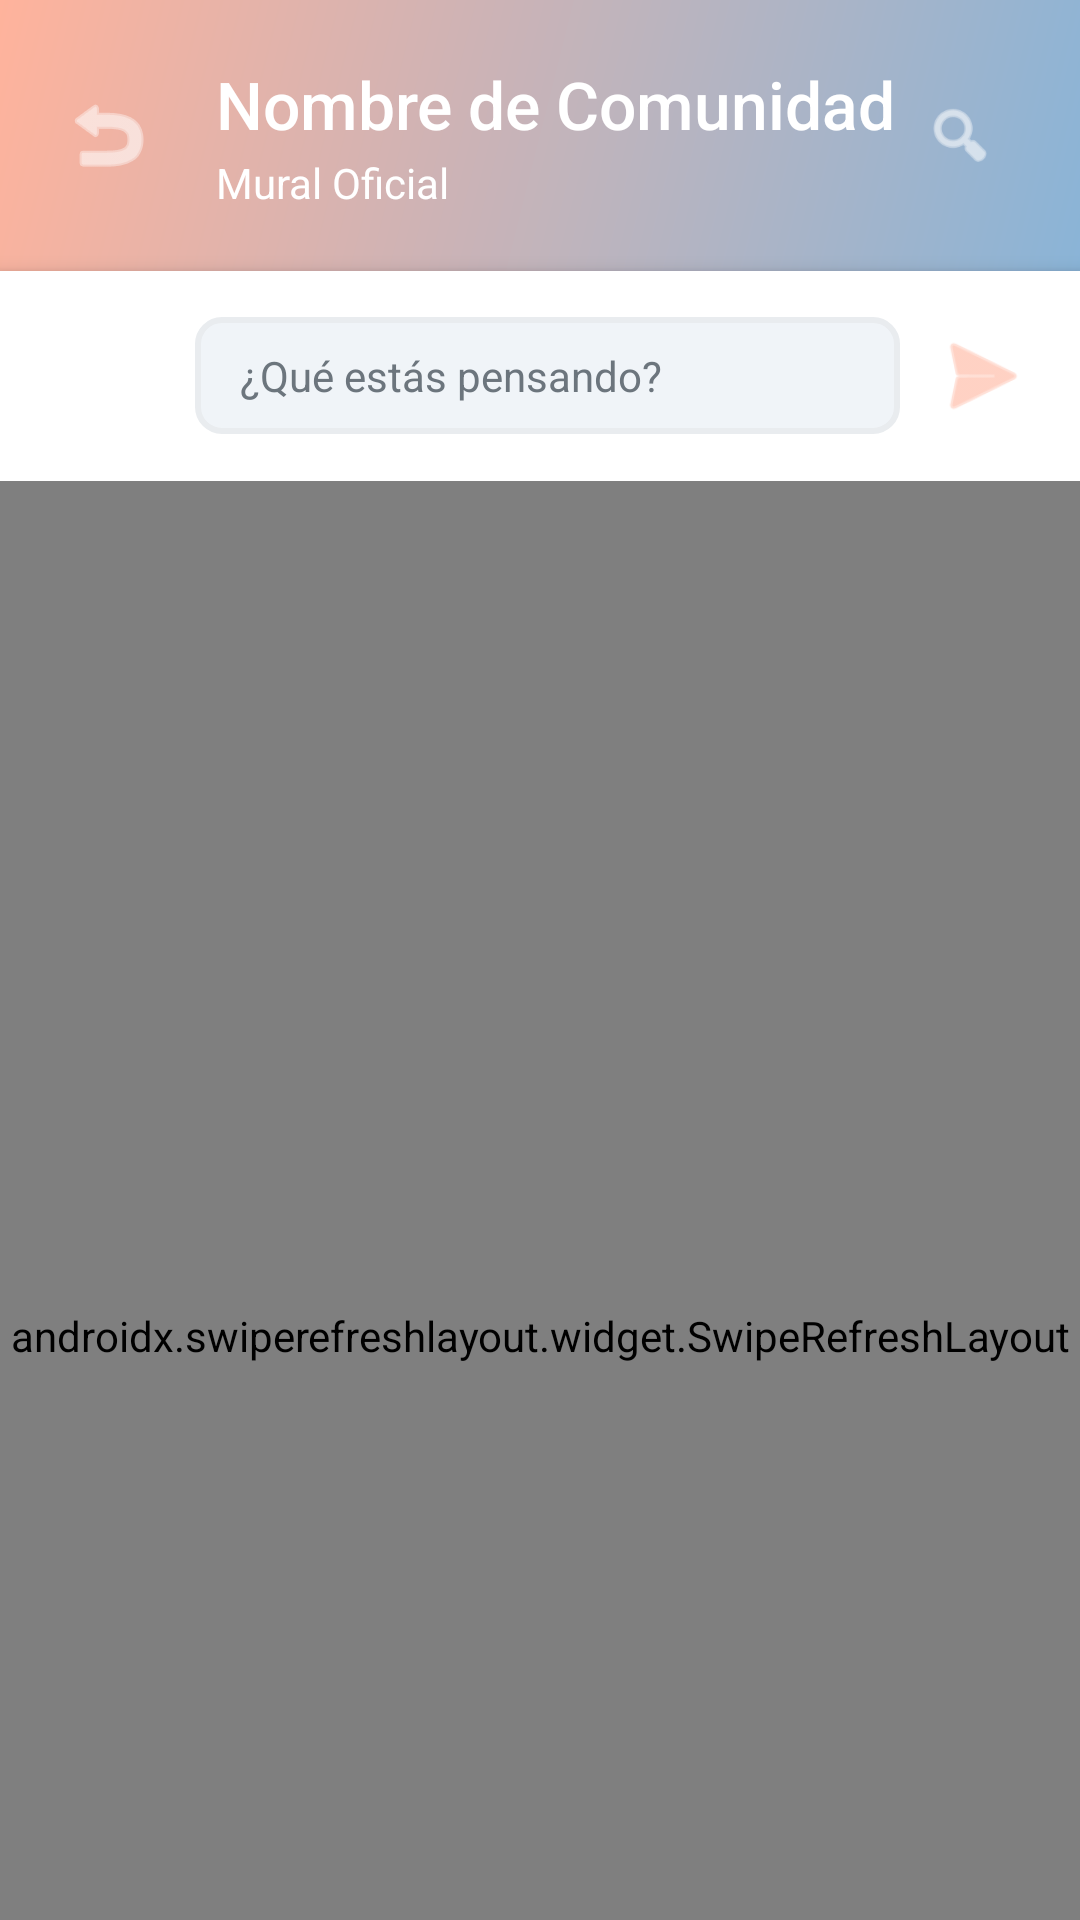

Screen size 1080px×1920px. Icon name, then its center in pixels as point (x, y):
revert: point (109, 136)
search: point (959, 135)
send: point (983, 376)
